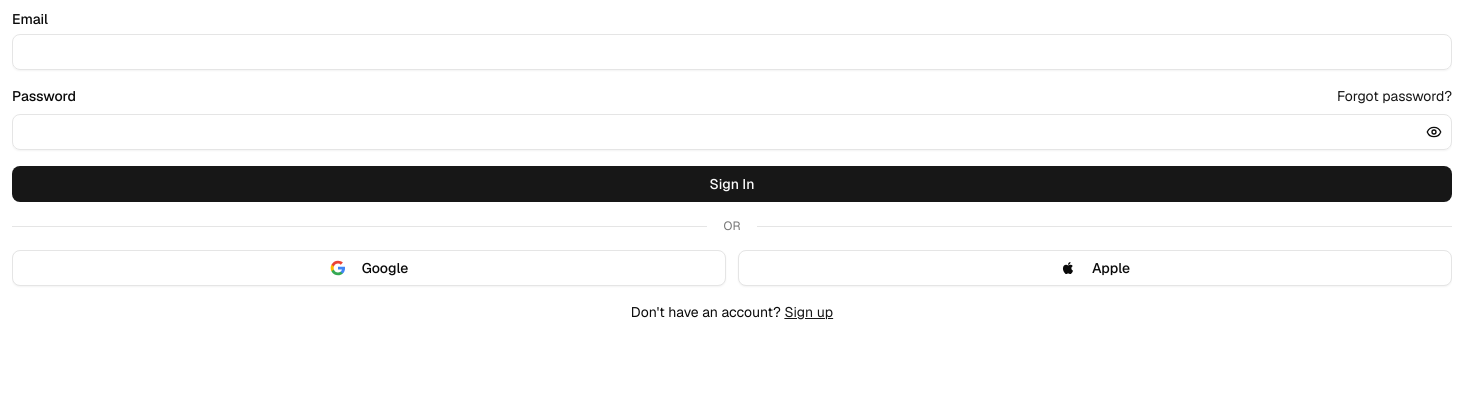
Test: LoginForm › displays invalid credentials error
This screenshot has width=1464, height=397.
In the field labelled "Email": (732, 52) [12,34,1452,70], type "test@example.com"
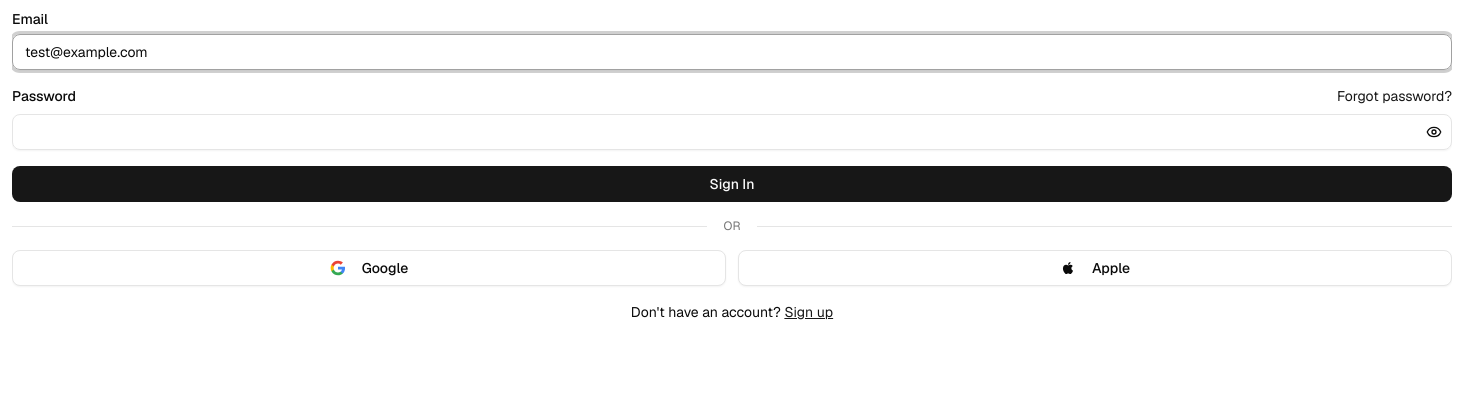
In the password field labelled "Password": (732, 132) [12,114,1452,150], type "wrongpassword"
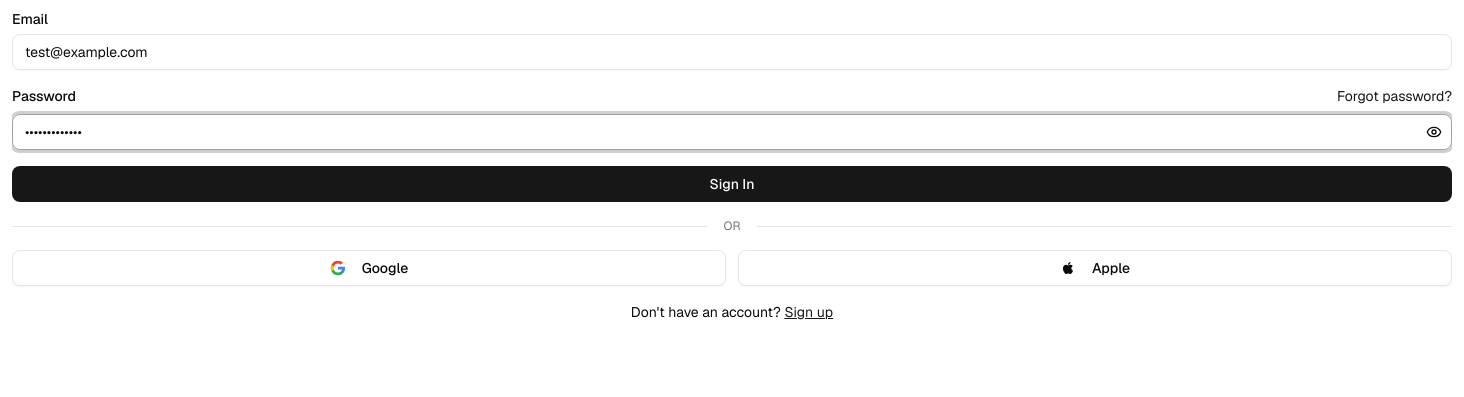
Click the button "Sign In": (732, 184) [12,166,1452,202]
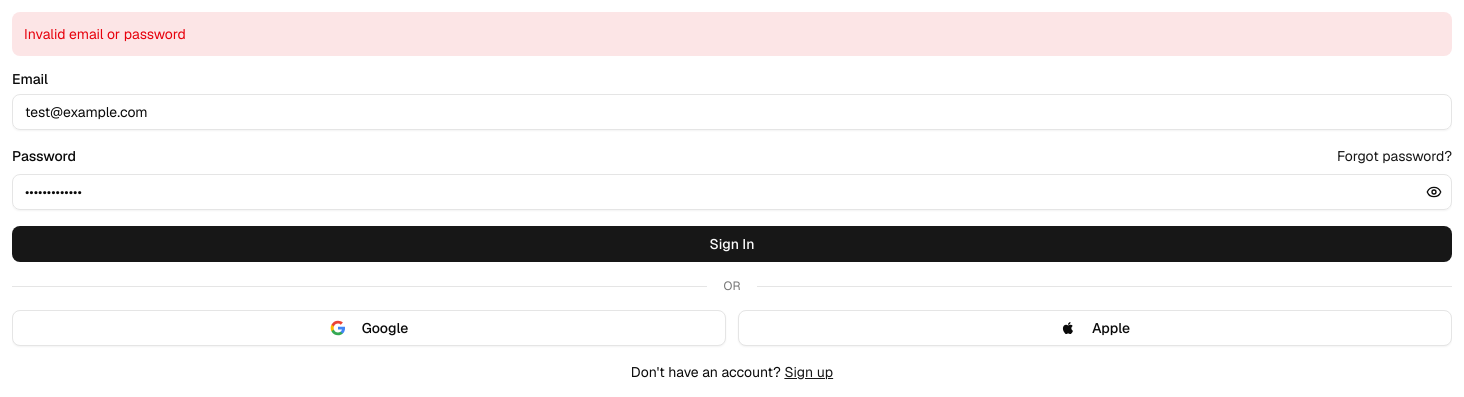
Expected: the text "Invalid email or password" is shown, [12,12,1452,56]
